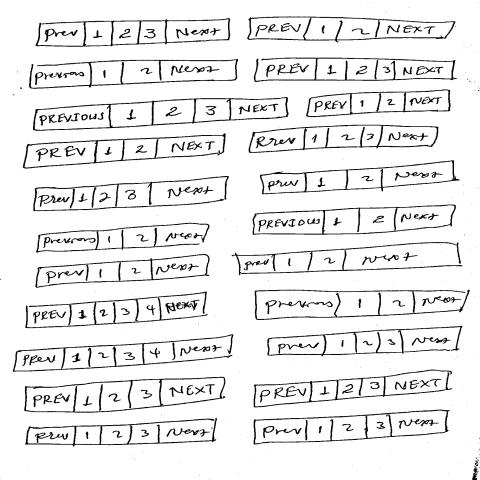Pagination: (32, 97, 289, 132), (12, 334, 235, 373), (253, 369, 452, 409), (24, 377, 228, 415), (234, 242, 463, 275), (23, 134, 228, 170), (33, 177, 230, 213), (260, 160, 457, 196), (253, 410, 450, 446), (25, 292, 208, 330), (255, 290, 472, 322), (29, 58, 240, 90), (251, 204, 458, 236), (267, 326, 464, 357), (34, 19, 233, 48), (35, 223, 211, 255), (25, 418, 218, 447), (248, 125, 440, 154), (246, 16, 457, 42), (253, 57, 457, 83), (305, 90, 452, 118)
